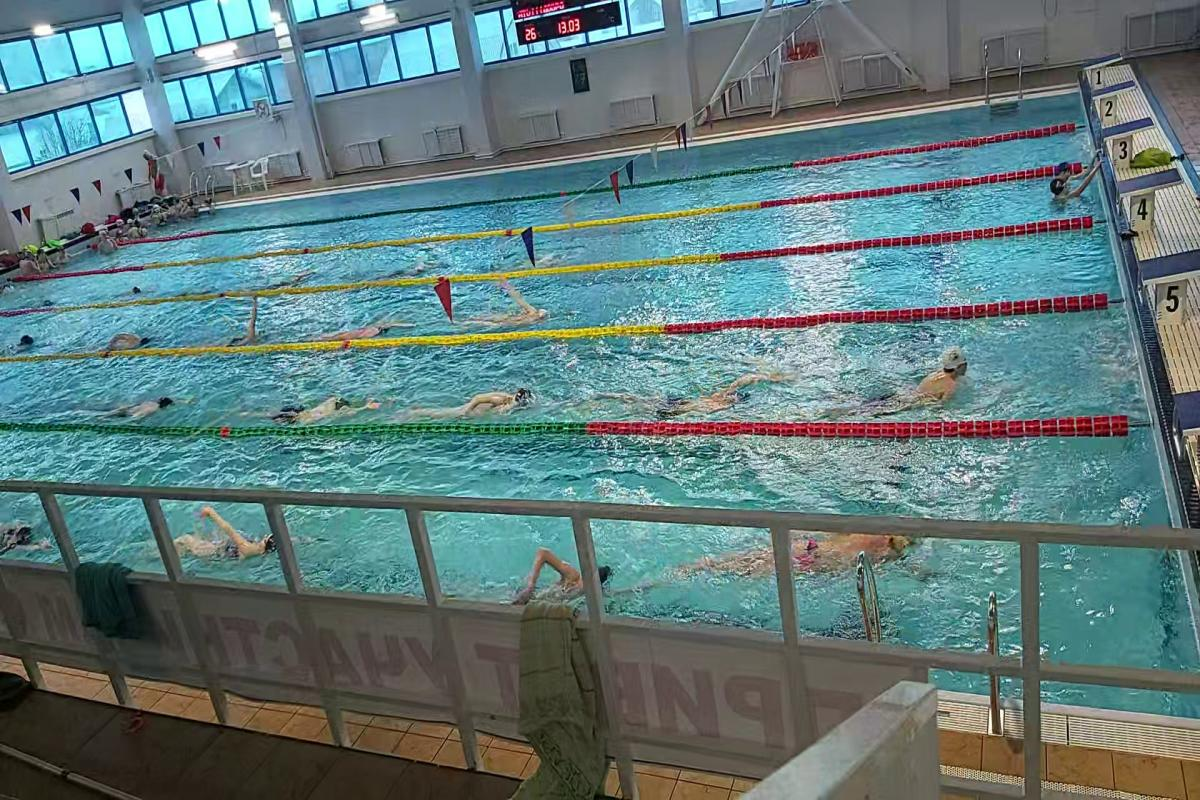swimmer: (626, 358, 775, 417), (889, 336, 978, 417), (796, 531, 920, 585), (174, 508, 271, 572), (489, 550, 582, 608), (422, 380, 543, 421), (264, 393, 381, 426), (478, 284, 552, 330), (91, 394, 183, 422), (321, 314, 414, 339), (225, 306, 266, 345), (104, 327, 160, 347)
